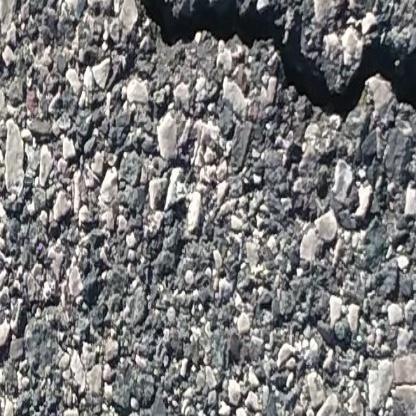Cracks: (118, 0, 416, 125)
